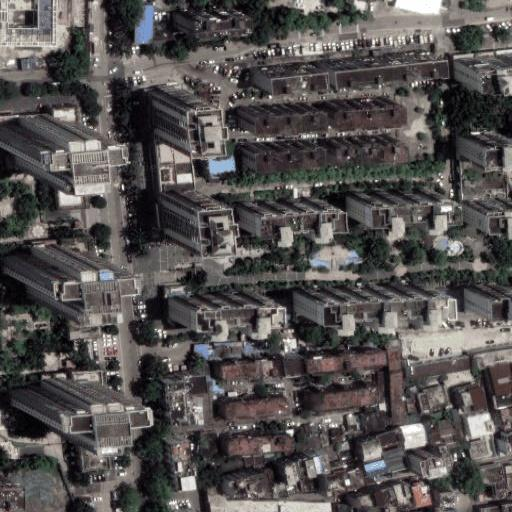building: (3, 243, 91, 299), (13, 376, 103, 427), (0, 115, 79, 172), (294, 286, 428, 319), (204, 483, 329, 512), (318, 51, 432, 78), (235, 201, 323, 235), (168, 294, 256, 328), (347, 192, 437, 225), (154, 136, 194, 193), (294, 305, 428, 322), (54, 140, 86, 211), (149, 88, 191, 139), (157, 368, 197, 420), (79, 399, 108, 470), (160, 189, 201, 239), (67, 268, 96, 338), (448, 49, 511, 81), (462, 156, 506, 201), (304, 348, 386, 371), (319, 132, 391, 157), (238, 138, 310, 163), (195, 337, 272, 360), (308, 384, 377, 409), (218, 356, 283, 380), (237, 103, 310, 124), (387, 348, 406, 425), (320, 97, 389, 118), (406, 357, 471, 378), (223, 395, 285, 417), (224, 432, 288, 453), (254, 63, 312, 85), (195, 143, 232, 175), (464, 200, 507, 227), (173, 7, 231, 27), (162, 435, 184, 484), (479, 465, 509, 499), (461, 136, 504, 158), (458, 383, 486, 416), (133, 3, 155, 43), (394, 0, 442, 18), (263, 298, 295, 323), (297, 423, 322, 454), (489, 363, 512, 395), (401, 423, 429, 449), (407, 478, 432, 507), (314, 465, 341, 491), (435, 290, 465, 313), (382, 447, 409, 472), (466, 432, 490, 460), (354, 491, 386, 512), (463, 411, 490, 435), (406, 448, 434, 471), (361, 411, 393, 431), (423, 385, 447, 410), (219, 471, 247, 492), (377, 373, 392, 412), (375, 428, 404, 448), (317, 445, 342, 468), (242, 467, 263, 492), (298, 470, 319, 495), (356, 435, 379, 457), (281, 358, 306, 378), (336, 461, 356, 486), (337, 440, 356, 464), (436, 416, 455, 440), (72, 370, 102, 385), (199, 431, 217, 456), (287, 454, 307, 476), (363, 459, 387, 477), (303, 450, 322, 472), (394, 484, 413, 506), (197, 311, 223, 327), (381, 487, 399, 510), (63, 237, 90, 252), (424, 420, 441, 443), (51, 108, 77, 123), (497, 406, 512, 432), (497, 429, 512, 453), (274, 458, 291, 479), (267, 478, 285, 497), (437, 491, 456, 508), (495, 391, 512, 409), (346, 414, 363, 432), (441, 437, 458, 453), (282, 475, 297, 493), (329, 427, 344, 445), (280, 338, 298, 353), (263, 466, 279, 482), (167, 285, 187, 297), (416, 392, 428, 412), (237, 315, 256, 325), (481, 505, 503, 512), (169, 317, 182, 328), (502, 503, 512, 512), (338, 505, 350, 512), (436, 507, 444, 512)
